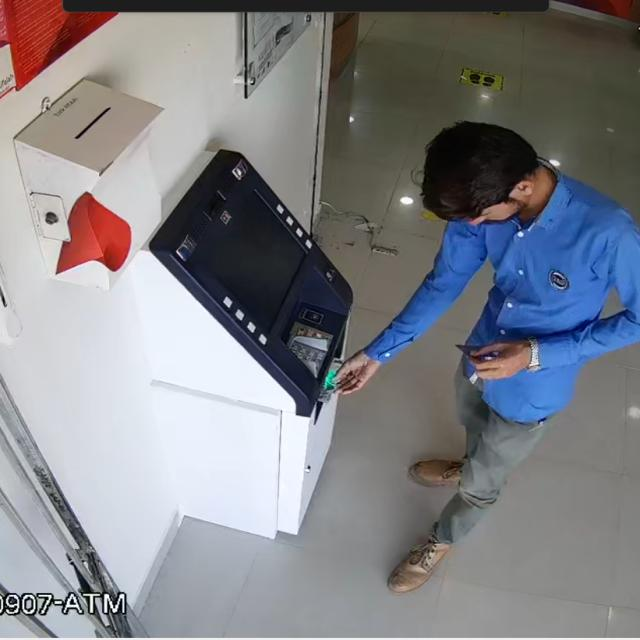note: (313, 355, 358, 407)
